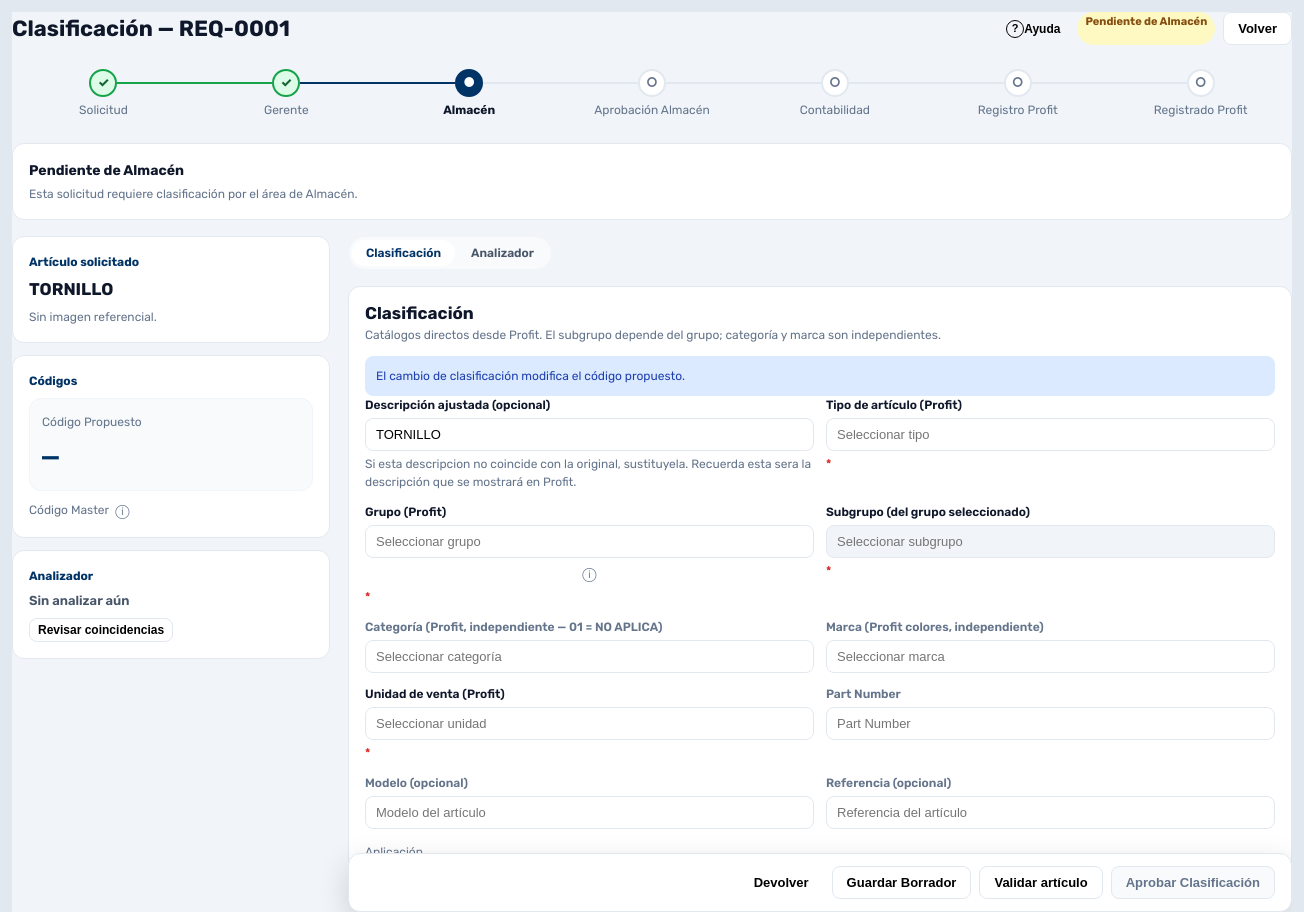
Test: AlmacenClassify vista post-clasificación (solo lectura por estado) › borrador: guardar conserva PENDIENTE_ALMACEN, avisa y sigue editable
Expected: the dropdown labelled "Grupo (Profit) ⓘ" is shown, [365,525,814,558]
Click the button "Guardar Borrador": (902, 882) [832,866,971,899]
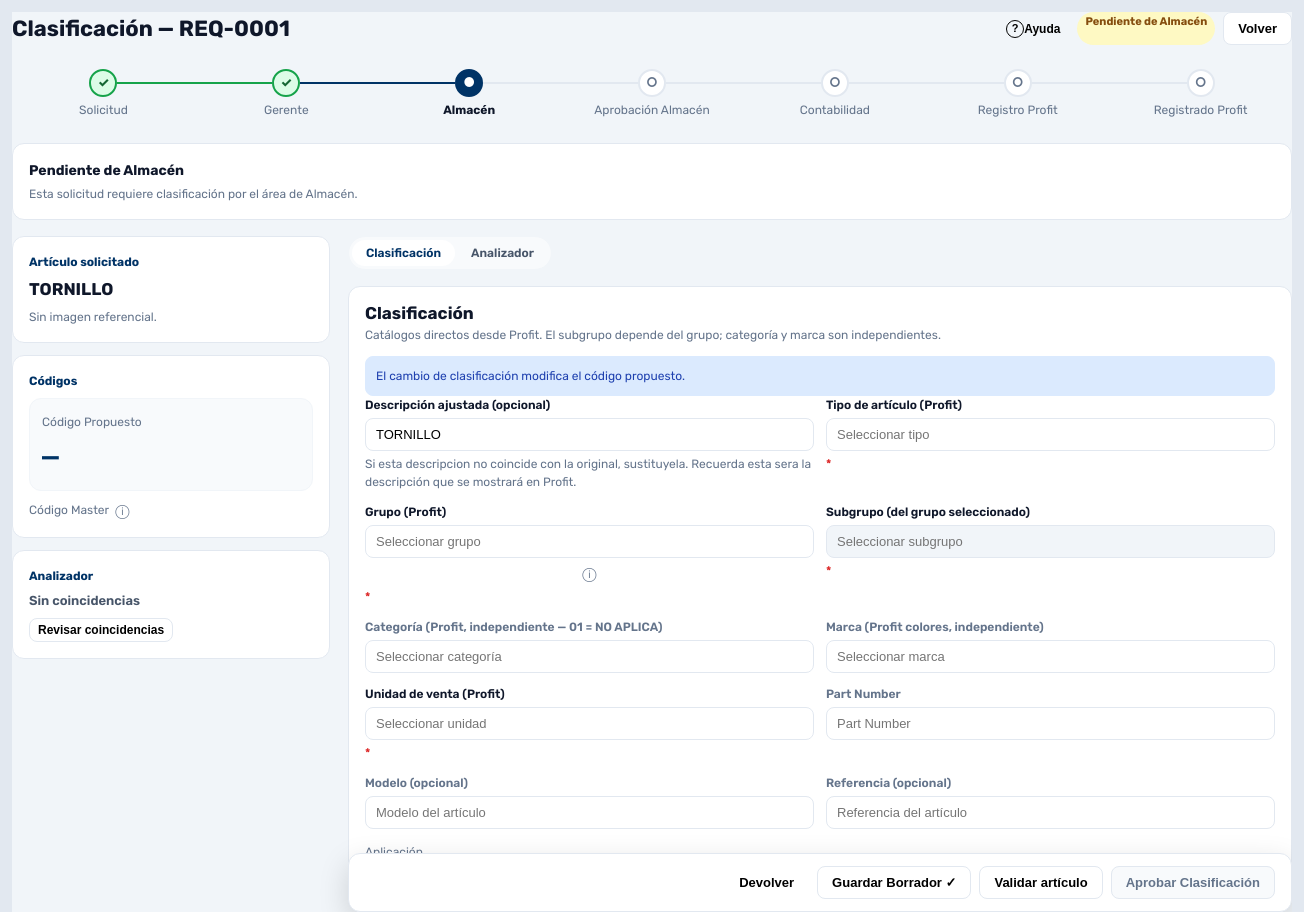
Expected: the dropdown labelled "Grupo (Profit) ⓘ" is enabled, [365,525,814,558]
Expected: the button "Guardar Borrador ✓" is shown, [817,866,971,899]
